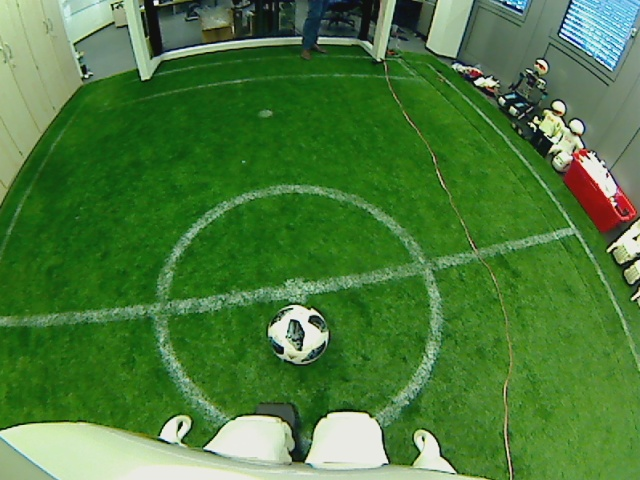ball: (265, 301, 329, 365)
